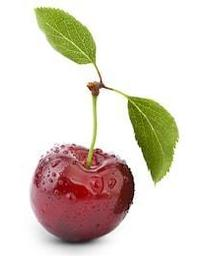cherry: (30, 143, 136, 244)
